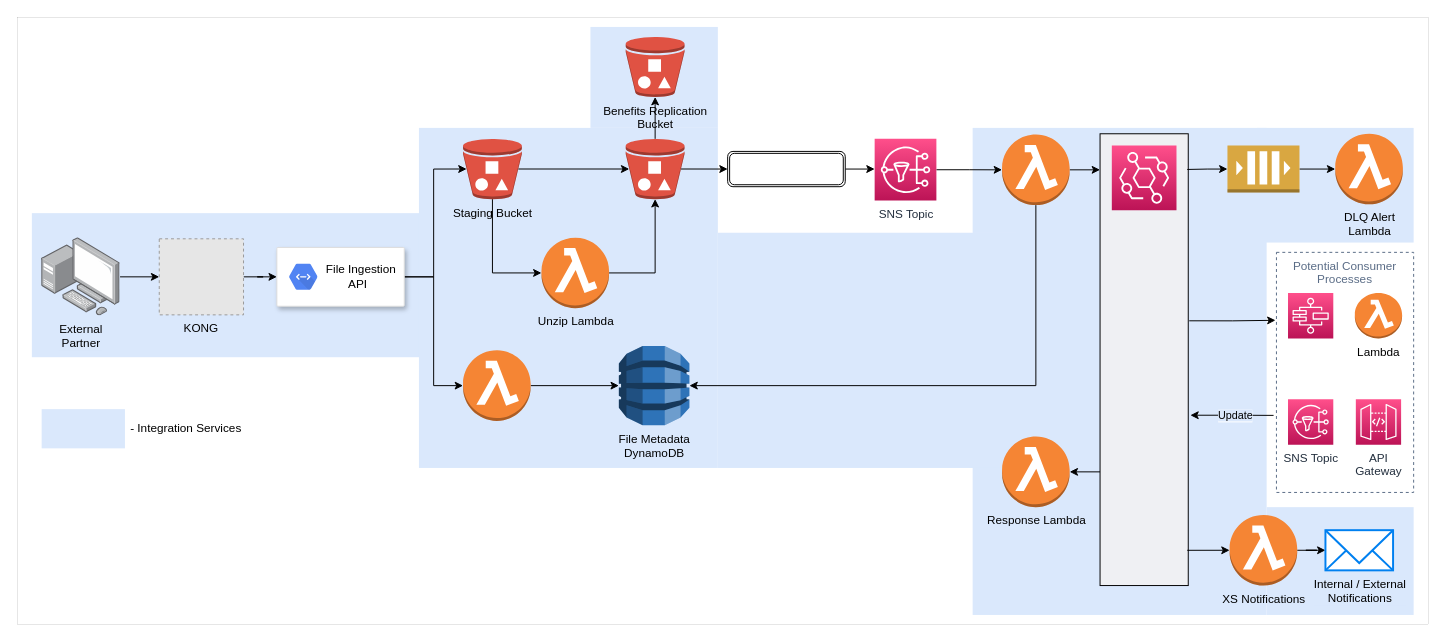
The diagram is 1445 pixels wide and 641 high, and some of its shapes have lost their labels. Grey dashed boxes stand in for pictures. The centre of each missing label's shape, as x and y in pixels:
"Create Metadata Record Lambda" belongs at (496,385).
"Dead Letter Queue" belongs at (1262,169).
"Event Bridge" belongs at (1143,177).
"File Upload Results Lambda" belongs at (1035,169).
"Step Function" belongs at (1310,315).
"Trend Micro" belongs at (786,168).
"Virus Scan Bucket" belongs at (655,168).
